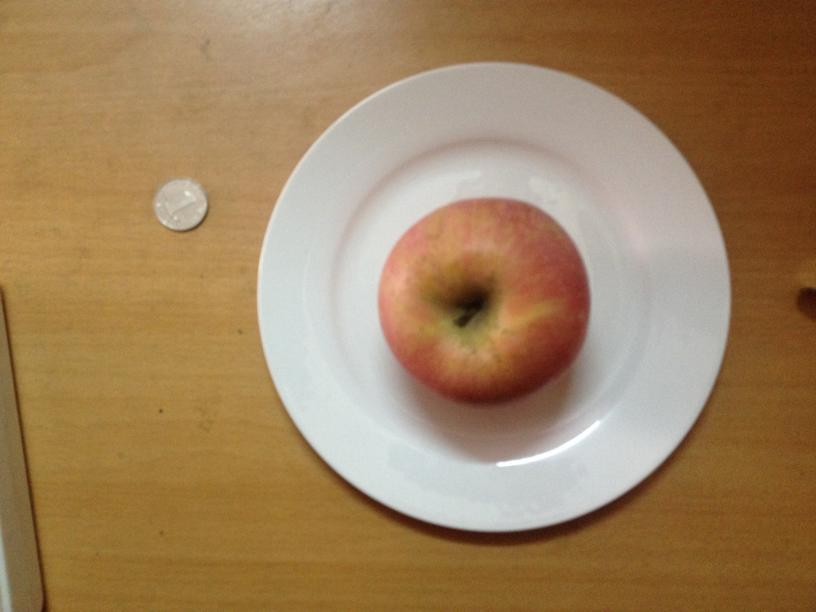apple: (373, 197, 590, 403)
coin: (151, 174, 208, 231)
